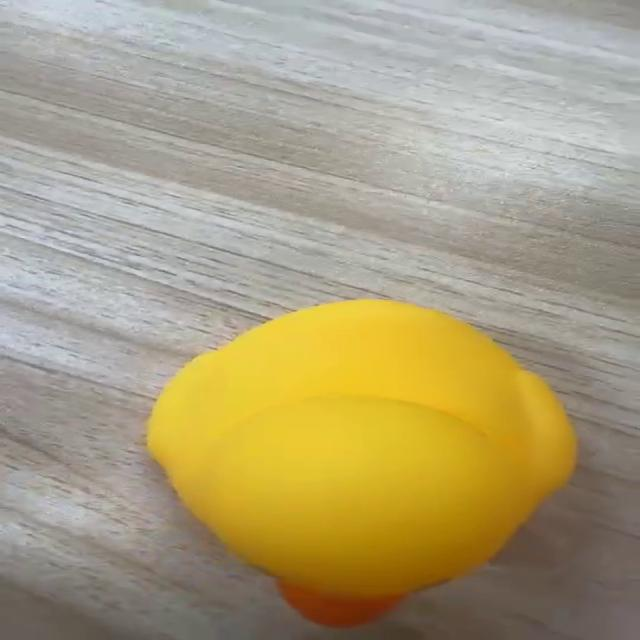yellow_duck: (143, 297, 580, 628)
